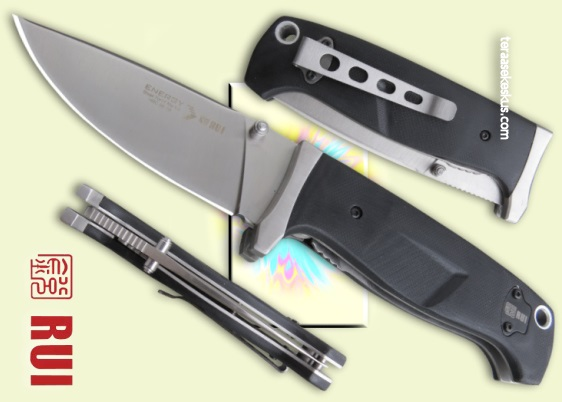knife: (7, 7, 295, 230)
